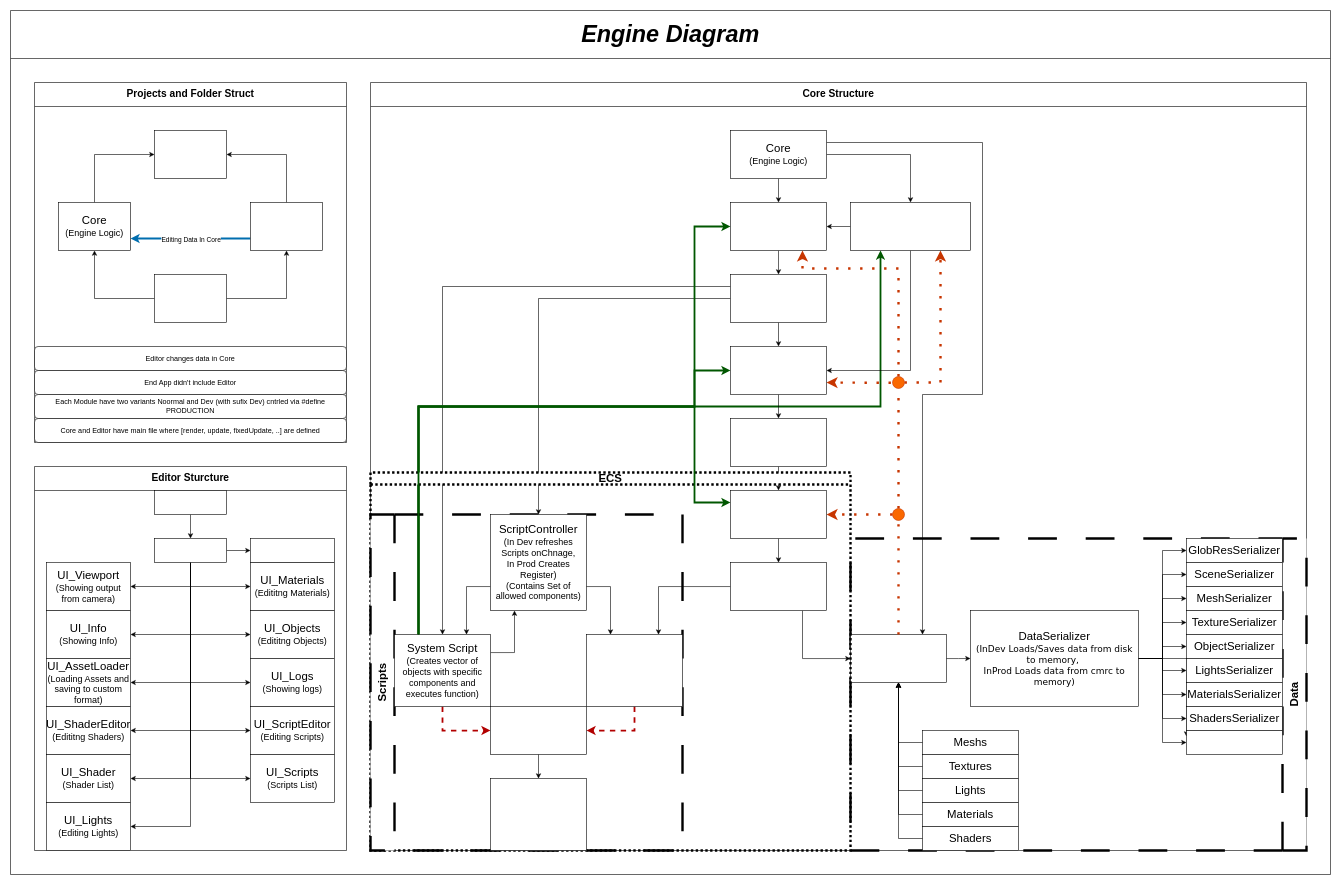
Image size: 1341x885. Some labels were removed from this diagram. Each missing label, with the centre of its shape:
"App (Main Run Point)" belongs at pixel 190 154.
"Camera (Generates FBO)" belongs at pixel 778 442.
"Camera Serializer" belongs at pixel 1234 742.
"CameraController (Register of Cameras on Scene)" belongs at pixel 778 370.
"Component Script (Contains Structure of Data)" belongs at pixel 634 670.
"Editor (Edititing)" belongs at pixel 286 226.
"Editor (Editor Logic)" belongs at pixel 190 502.
"Entity (Represents object)" belongs at pixel 778 586.
"EntityManager" belongs at pixel 778 514.
"GlobRes (SINGLETON) (Choses Scene and Camera)" belongs at pixel 910 226.
"Resources (SINGLETON)" belongs at pixel 898 658.
"Scene (Represenets Scene)" belongs at pixel 778 298.
"SceneManager (SINGLETON)" belongs at pixel 778 226.
"Script (template)" belongs at pixel 538 730.
"ScriptShared (Set of libs and interfaces used by scripts)" belongs at pixel 538 814.
"UI" belongs at pixel 190 550.
"UI_Settings (UI State)" belongs at pixel 292 550.
"Utils (Additional Usaed by Core and Editor)" belongs at pixel 190 298.
